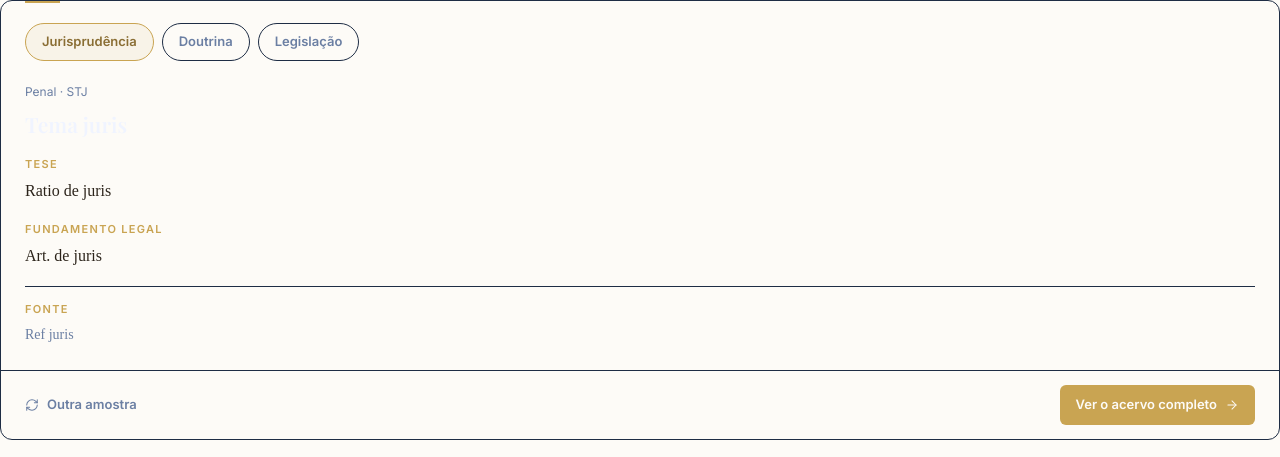
AmostraAcervo › troca de aba e aceita teses em texto JSON
This screenshot has width=1280, height=457.
Click the tab "Doutrina" at {"x": 206, "y": 42}, box [162,23,250,60]
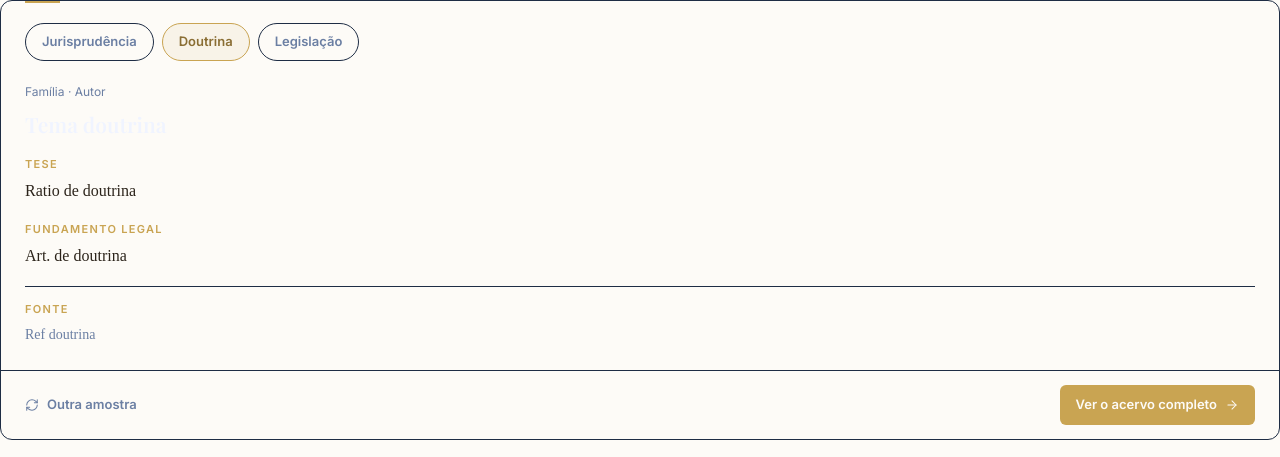
Expected: the text "Ratio de doutrina" is shown, [25,182,136,199]
